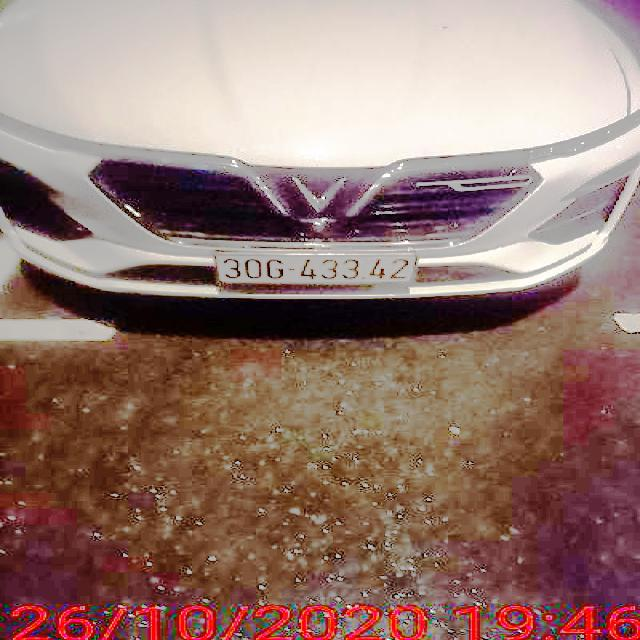license_plate: (216, 250, 425, 286)
